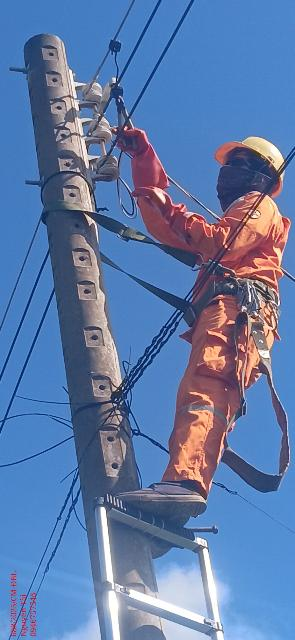gloves: (103, 116, 173, 194), (138, 175, 207, 243)
harness: (187, 253, 292, 319)
helmet: (207, 122, 295, 201)
shoes: (103, 475, 224, 529)
